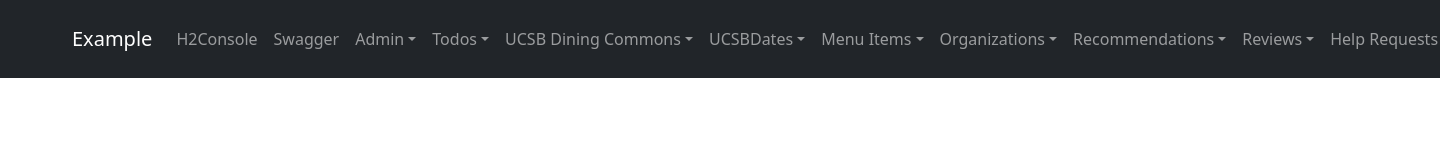
Test: AppNavbar tests › renders the menu-items menu correctly for a user
Expected: the element with test id "appnavbar-menu-items-dropdown" is shown, [821, 28, 912, 50]
Click the button "Menu Items". click: (872, 39)
box: [813, 19, 932, 59]
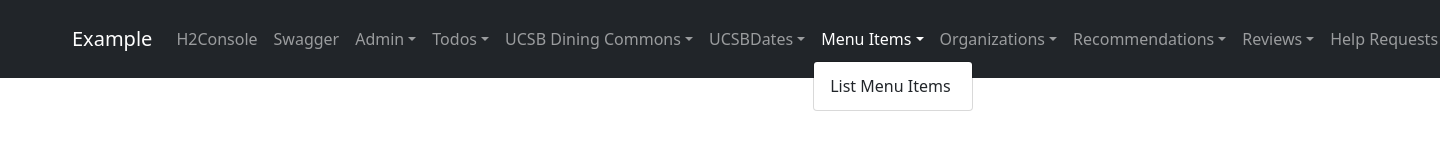
Result: the link with test id "appnavbar-menu-items-list" is shown at [830, 75, 951, 97]
